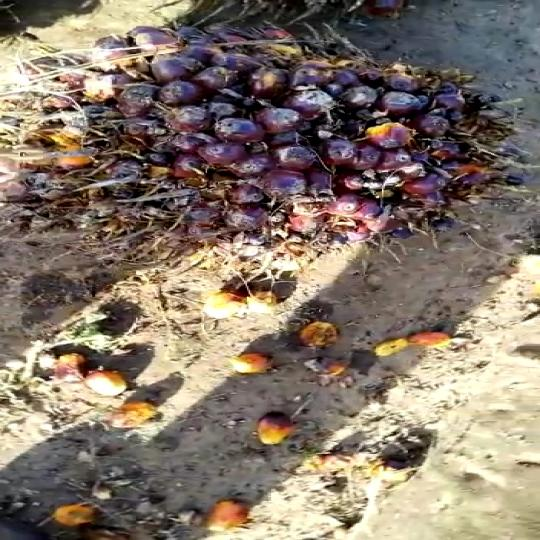masak: (47, 19, 535, 276)
